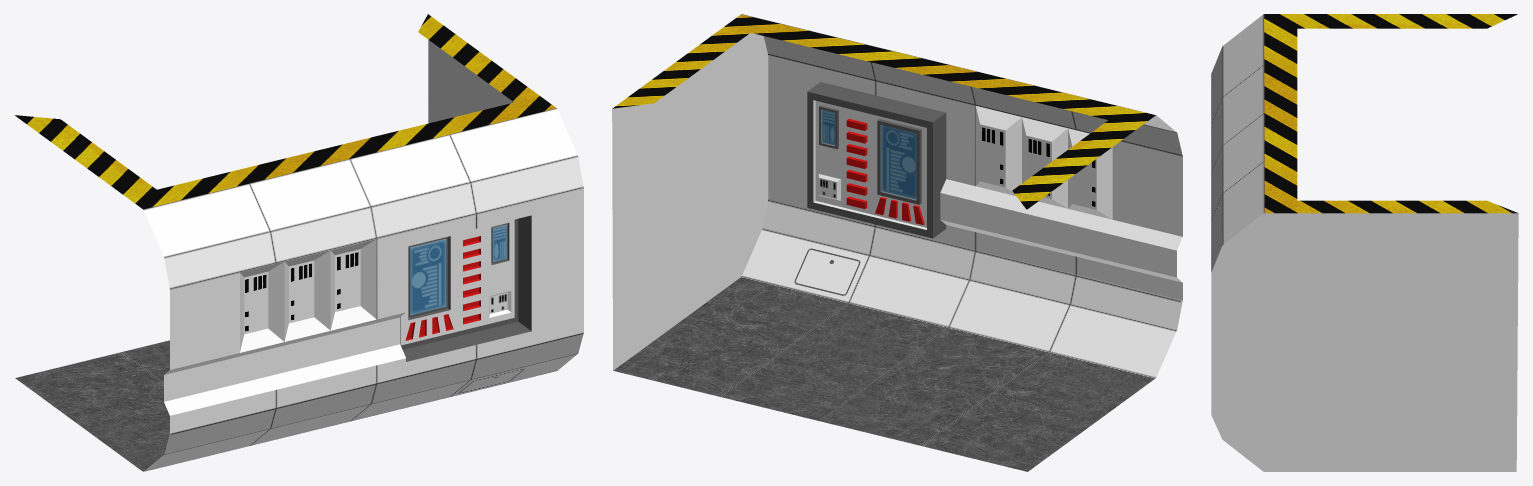
Rendered from Wall_1_Most_Ceiling_Missing.FBX.
3 renders of one model, left to right at view 1: azimuth 30°, elevation 25°; view 2: azimuth 150°, elevation 25°; view 3: azimuth 270°, elevation 25°, orthographic.
Visible parts, largest first — view 1: Plane100; view 2: Plane100; view 3: Plane100.
Part boxes in pixels (bbox=[...]): Plane100: bbox=[14, 14, 583, 471]; Plane100: bbox=[612, 14, 1182, 471]; Plane100: bbox=[1211, 14, 1518, 471].
Size of the model in its own units: 134 by 81.2 by 87.42.
